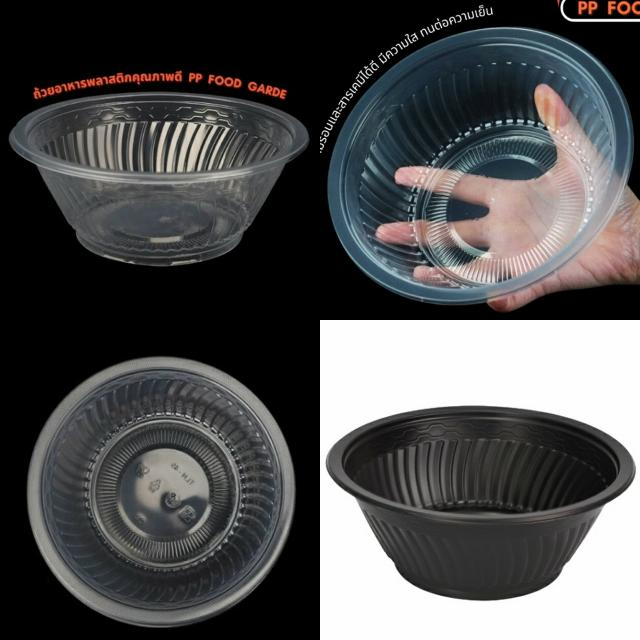Single-Use-Plastic: (329, 28, 632, 304), (28, 358, 295, 626), (328, 406, 635, 599), (10, 92, 308, 266)
